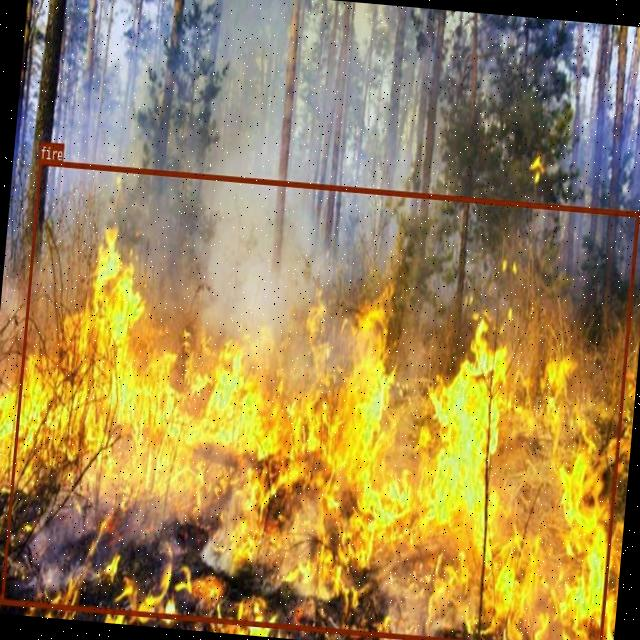fire: (0, 159, 639, 640)
